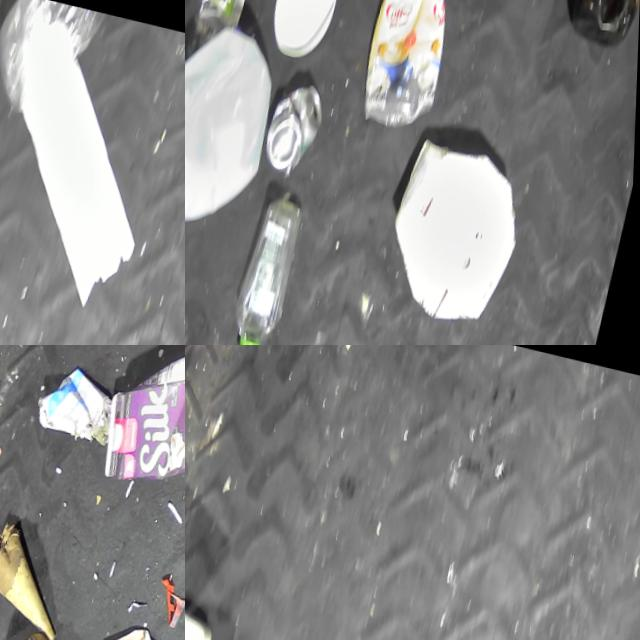can: (261, 72, 332, 181)
milk_jug: (185, 8, 292, 238)
non_white_jug: (96, 345, 185, 504), (561, 0, 640, 52)
plastic_bottle: (226, 184, 312, 345)
